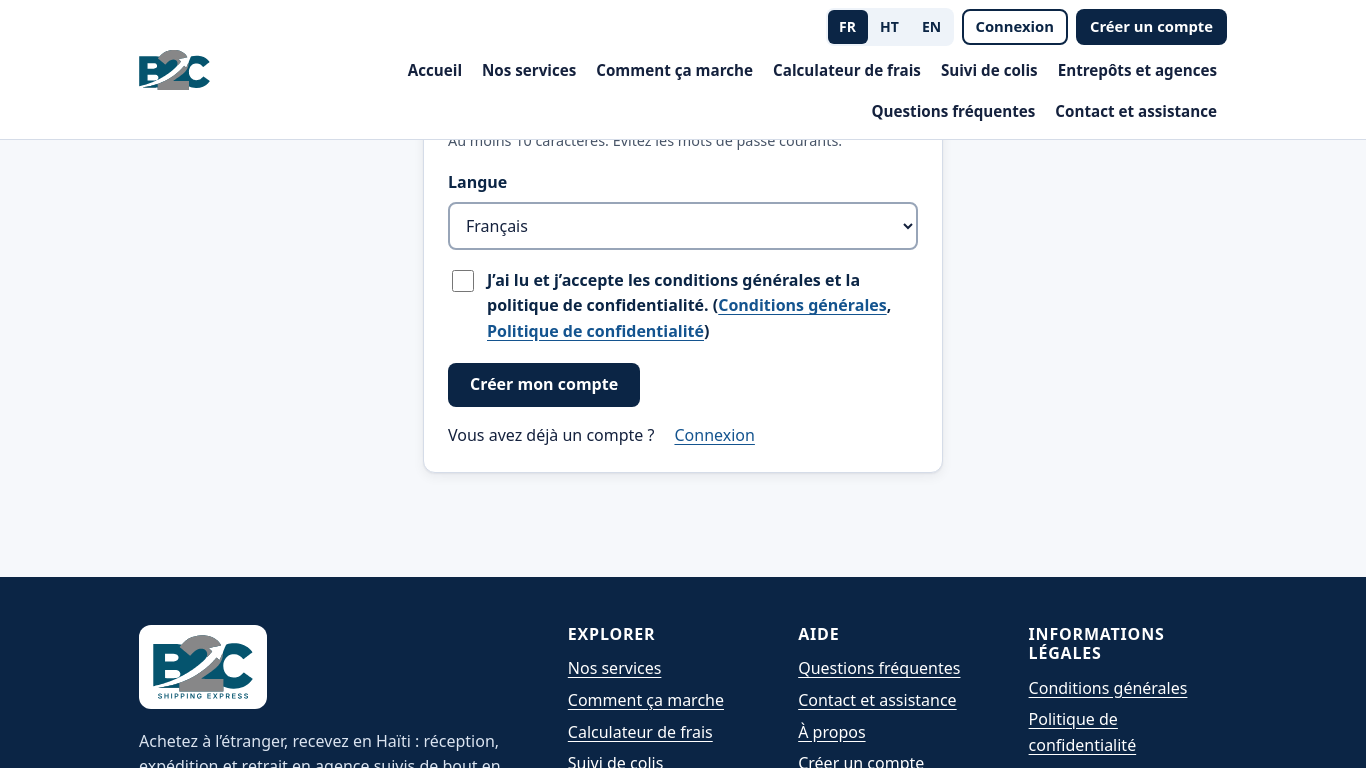
Test case: formulaire d’inscription › affiche des erreurs localisées, accessibles, sans appeler le serveur
(page scrolled)
Click the button "Créer mon compte" at (544, 385), box [448,363,640,407]
(page scrolled)
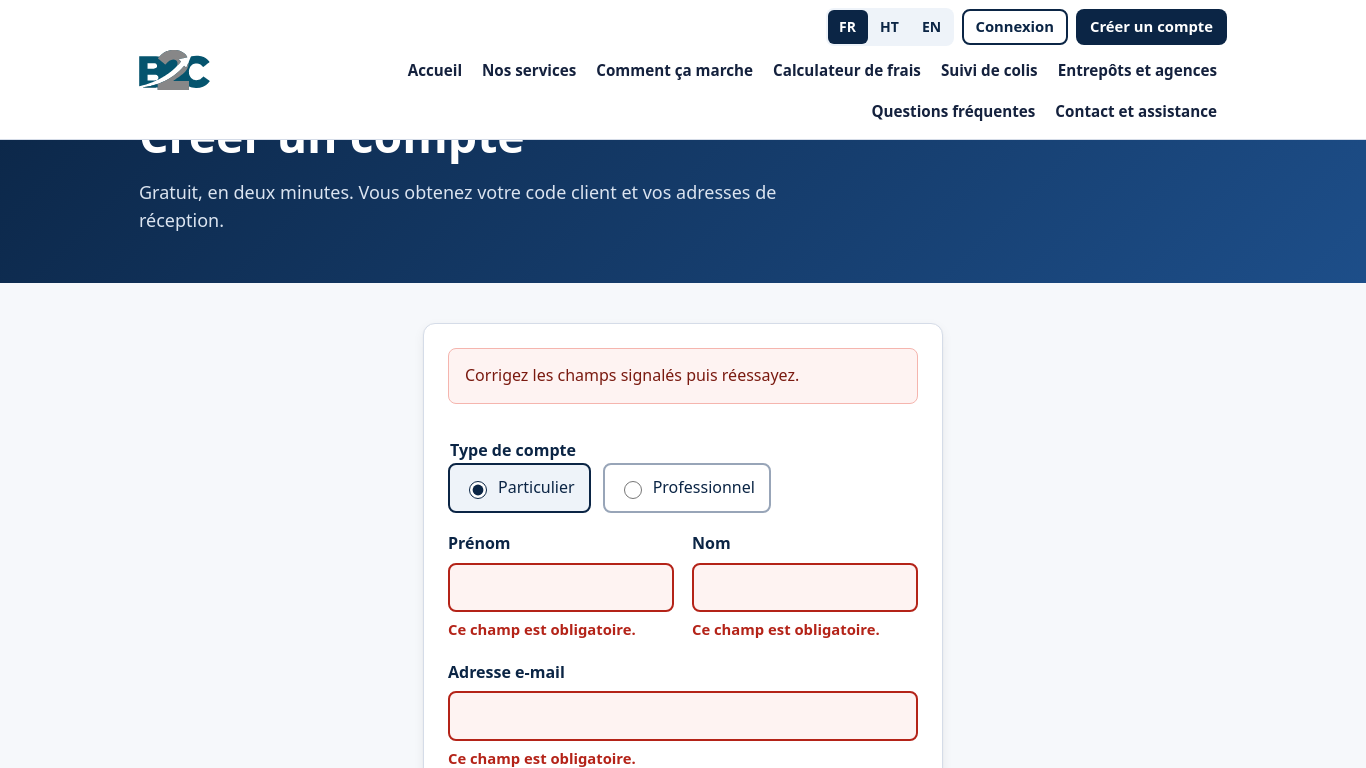
Expected: the message shows "Corrigez les champs signalés", [465,364,799,386]
